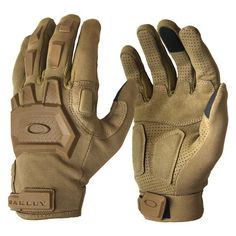gloves: (8, 13, 136, 221), (119, 18, 228, 222)
